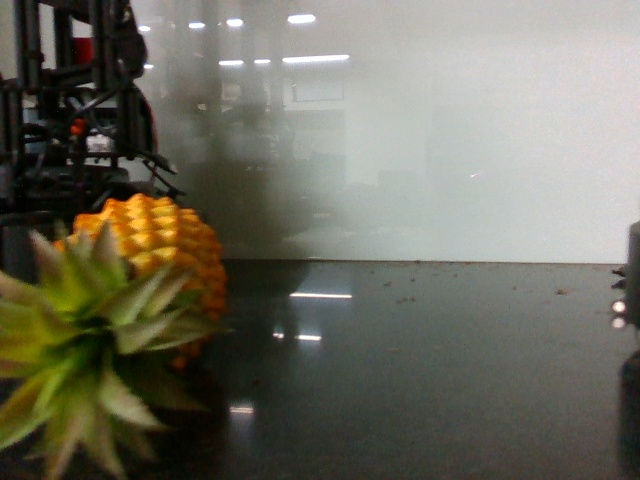pineapple: (19, 192, 228, 454)
